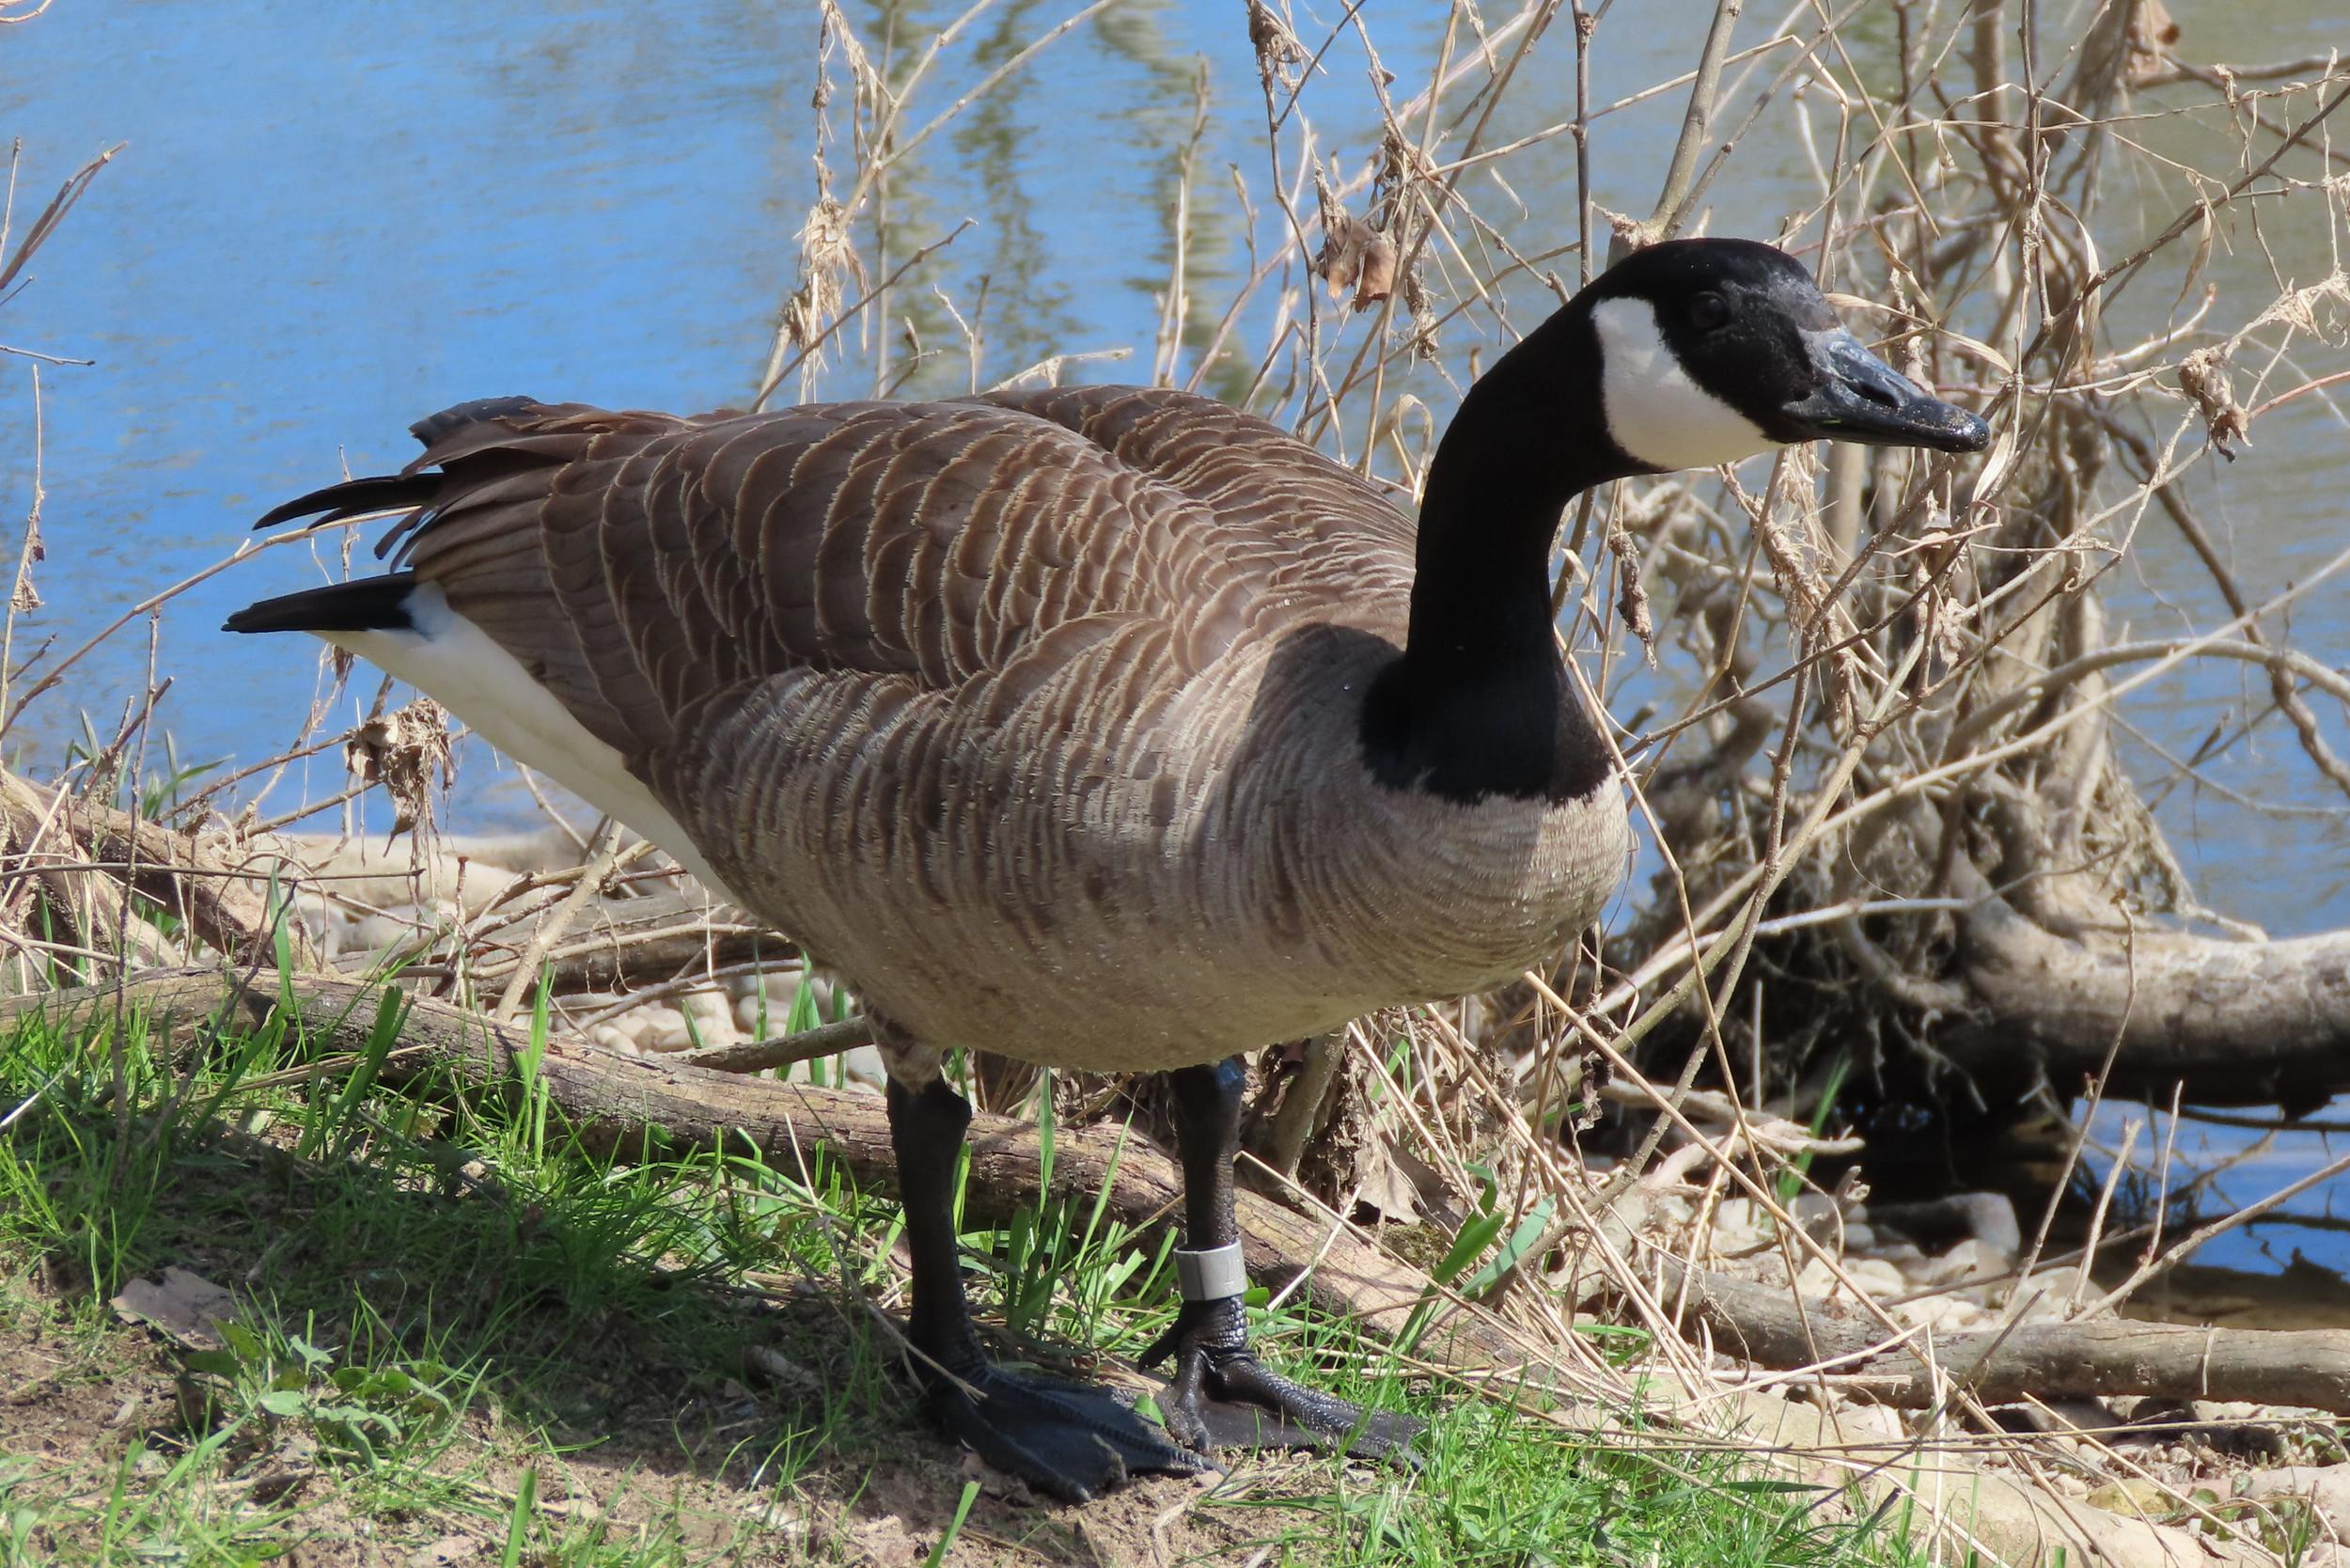Canadian-Goose: (264, 215, 1988, 1482)
